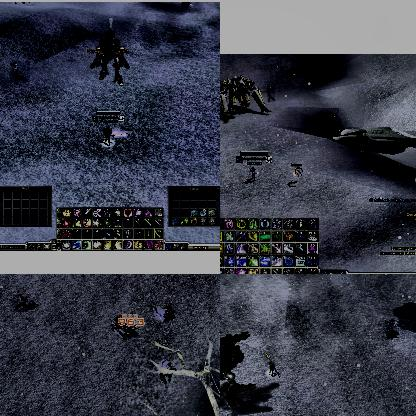caliana: (10, 61, 30, 83), (154, 306, 173, 322), (13, 294, 29, 312), (383, 320, 399, 338), (159, 362, 171, 382), (267, 86, 275, 102)
